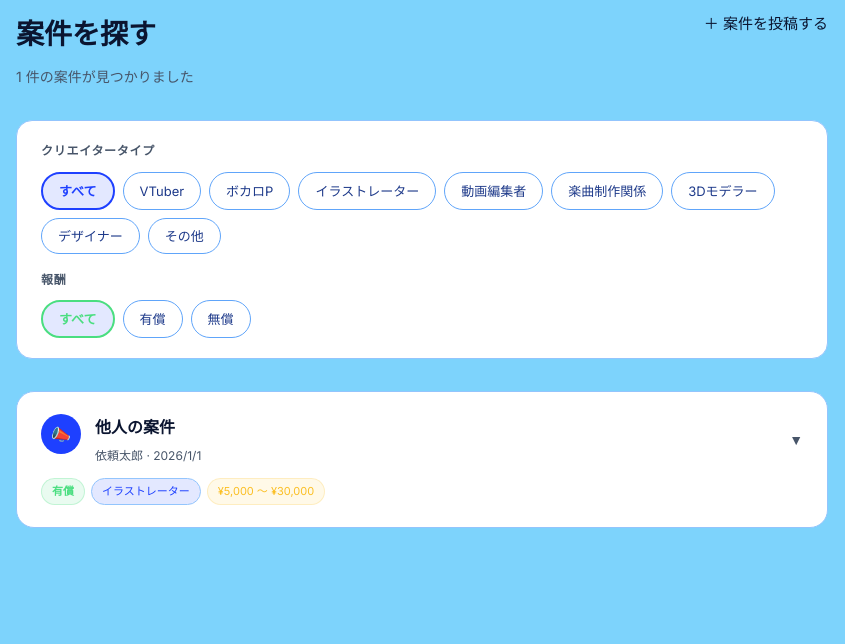
JobListingsClient › [happy] 展開時、他人の投稿には「依頼者のプロフィールを見る」リンクが表示される
Click the text "他人の案件" at [422, 460], box [16, 392, 828, 528]
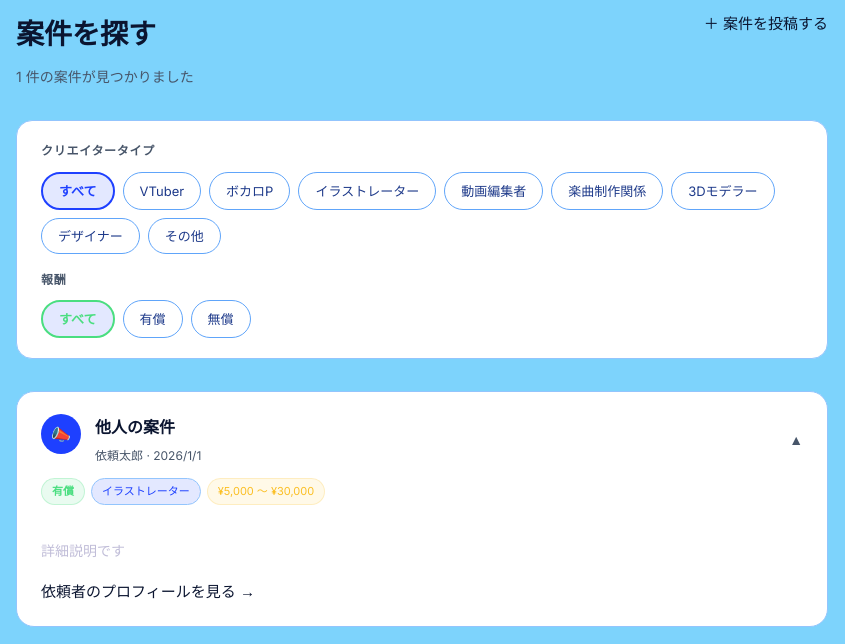
Now the link "依頼者のプロフィールを見る →" is shown, box [41, 582, 255, 601]
